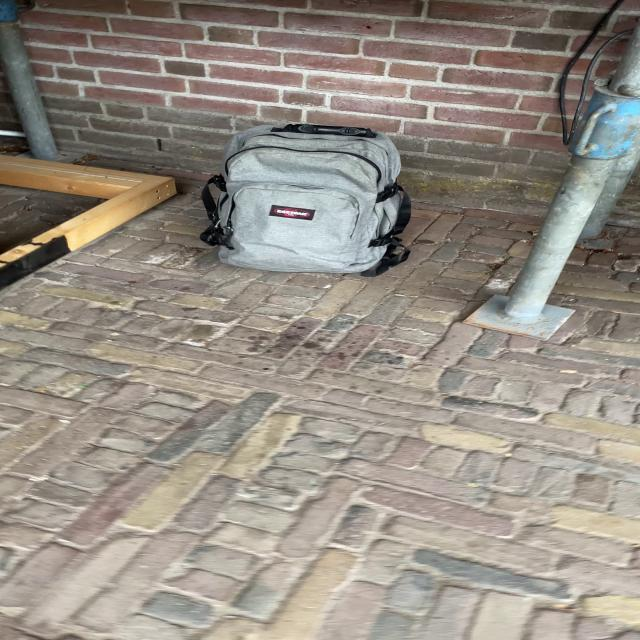backpack: (192, 115, 418, 277)
